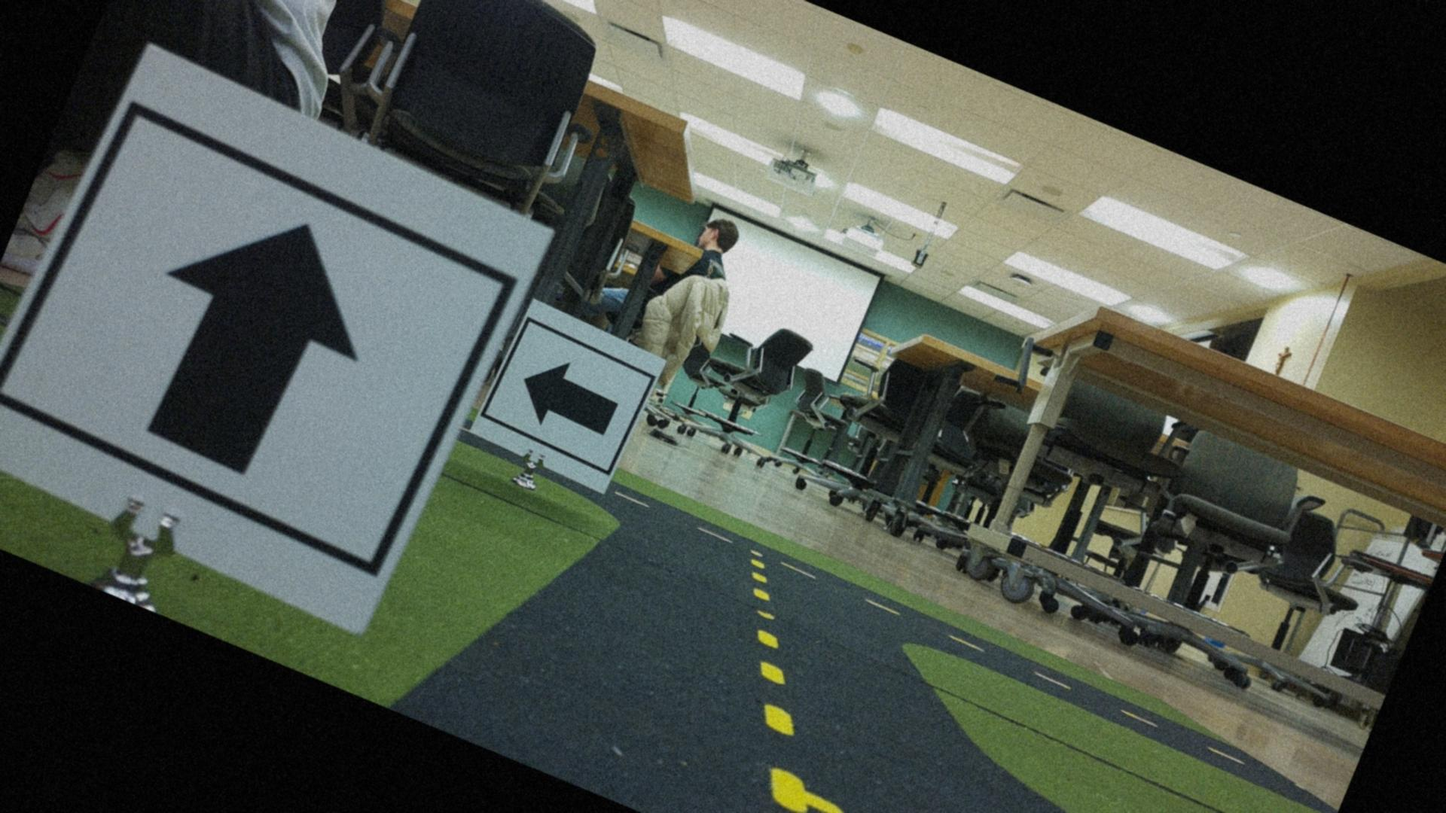gostraight: (0, 45, 528, 616)
yellowline: (668, 548, 886, 810)
